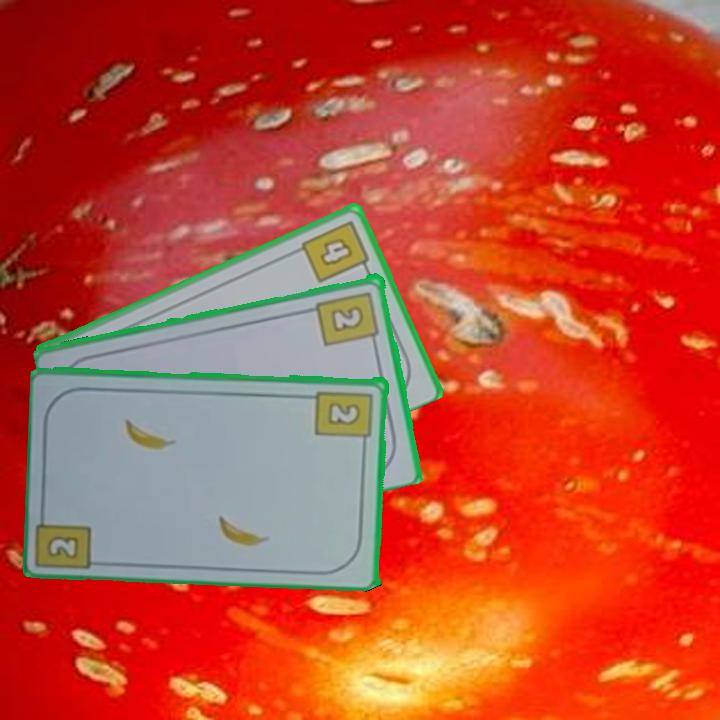2b: (313, 287, 383, 349), (313, 387, 376, 450), (43, 531, 83, 562)
4b: (297, 216, 373, 286)
